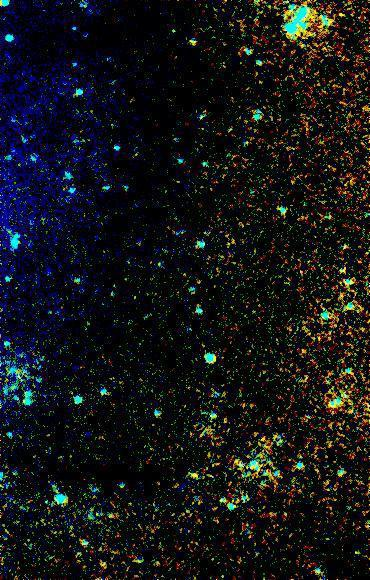star: (176, 461, 206, 491)
